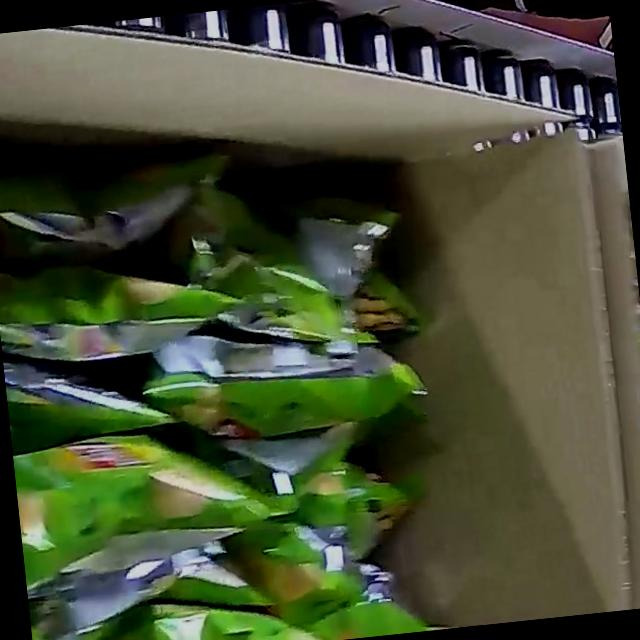yogurt: (0, 123, 459, 640)
